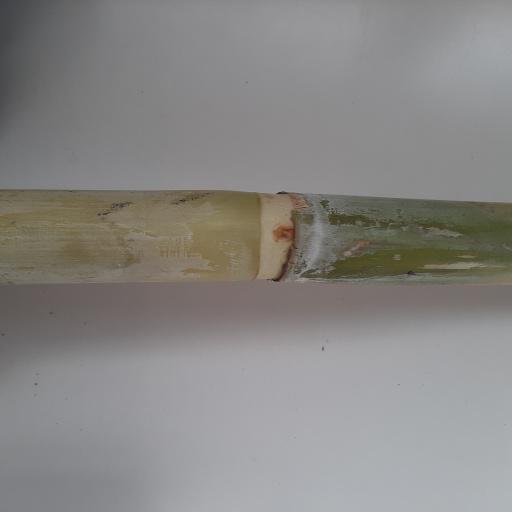Damage_Bud: (271, 222, 295, 243)
